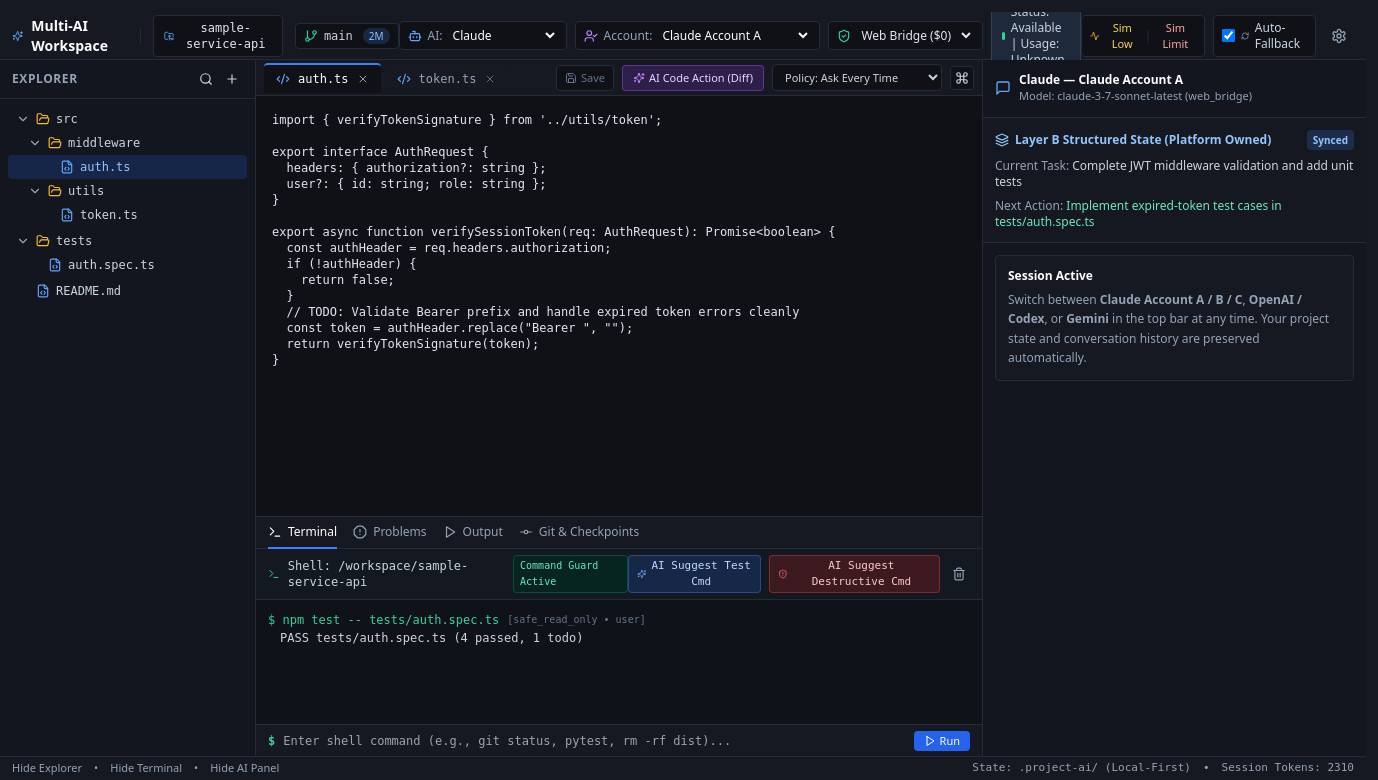
Test: Phase 1: Multi-AI Development Workspace Application Shell › switches from Claude Account A to Claude Account B and generates claude-session-001.md handoff
The width and height of the screenshot is (1378, 780).
Select "Claude Account B" in the dropdown with test id "ai-account-select". click: {"x": 735, "y": 36}
box: [658,26,811,45]
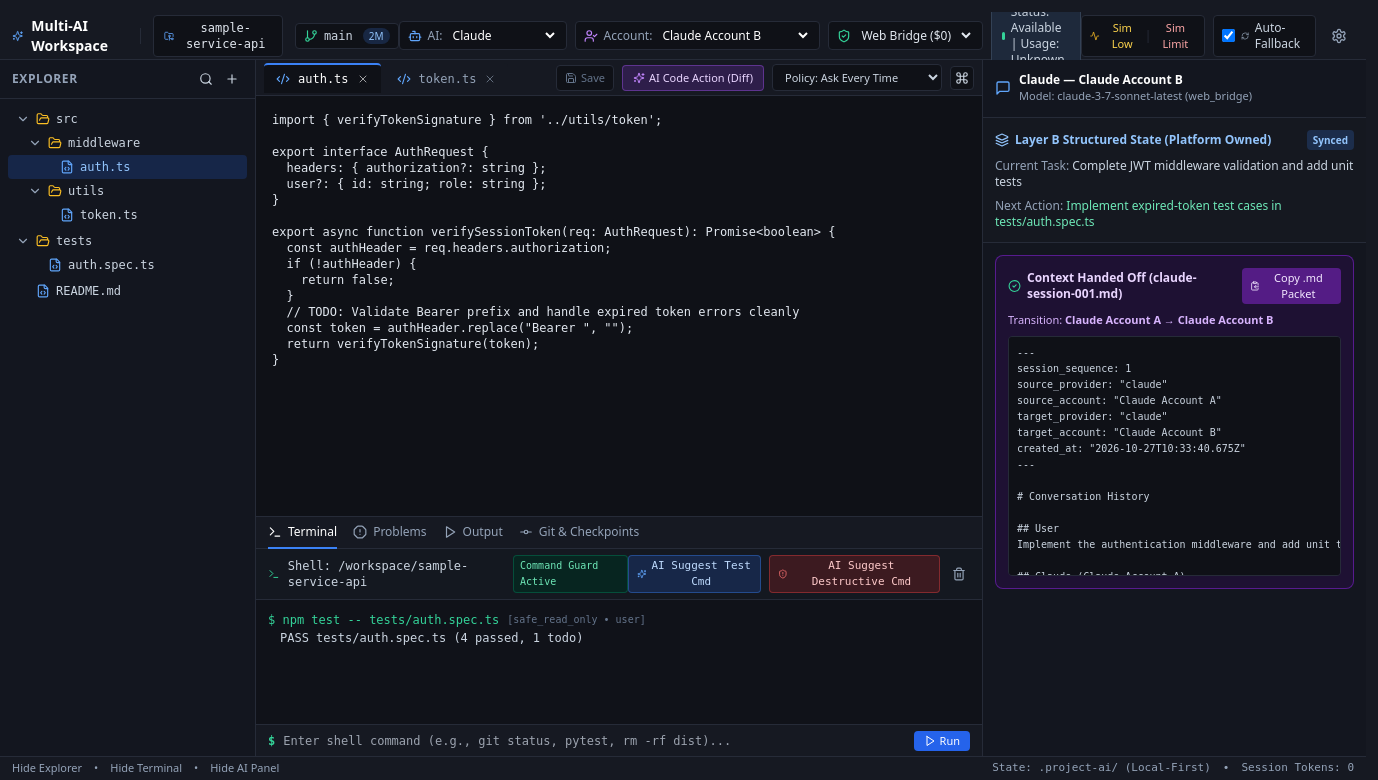
Check: the text with test id "ai-panel-active-identity" reads "Claude — Claude Account B", box [1019,71,1183,88]
Check: the element with test id "handoff-continuity-card" shows "claude-session-001.md", box [1027,268,1196,302]
Check: the element with test id "handoff-continuity-card" shows "Claude Account A → Claude Account B", box [995,254,1354,588]
